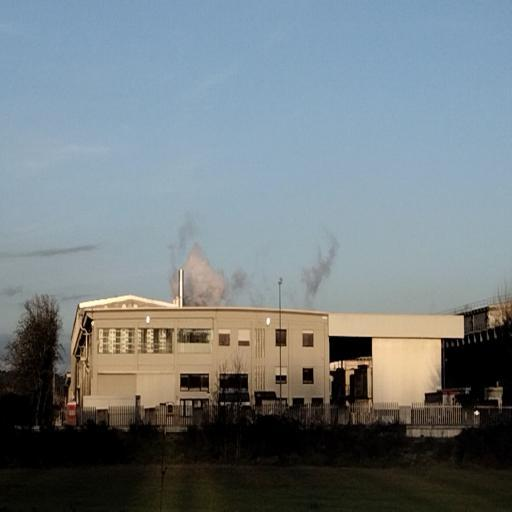leakage: (167, 232, 250, 305)
